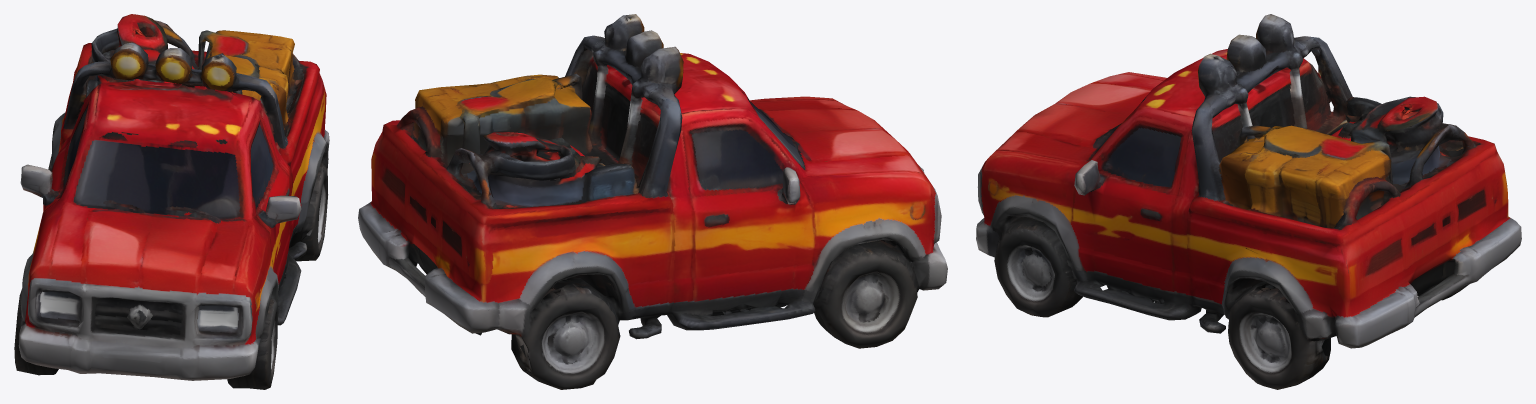
File: NPC_UtilityPickup_00001.glb
3 views of the same model, side by side, from view 1: azimuth 30°, elevation 25°; view 2: azimuth 150°, elevation 25°; view 3: azimuth 270°, elevation 25° (orthographic). The views are drawn at different scales.
Size of the model in its own units: 0.9014 by 0.547 by 0.9516.
Materials: 1 (1 with a texture image).
